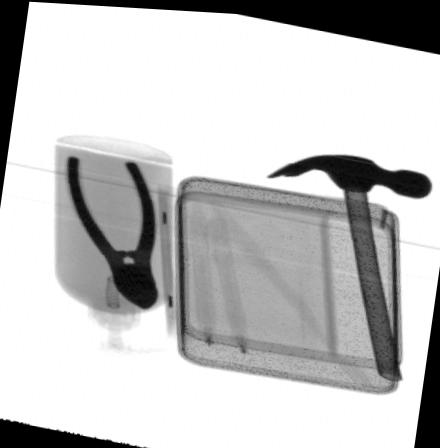Hammer: (261, 149, 436, 377)
Pliers: (65, 154, 162, 312)
